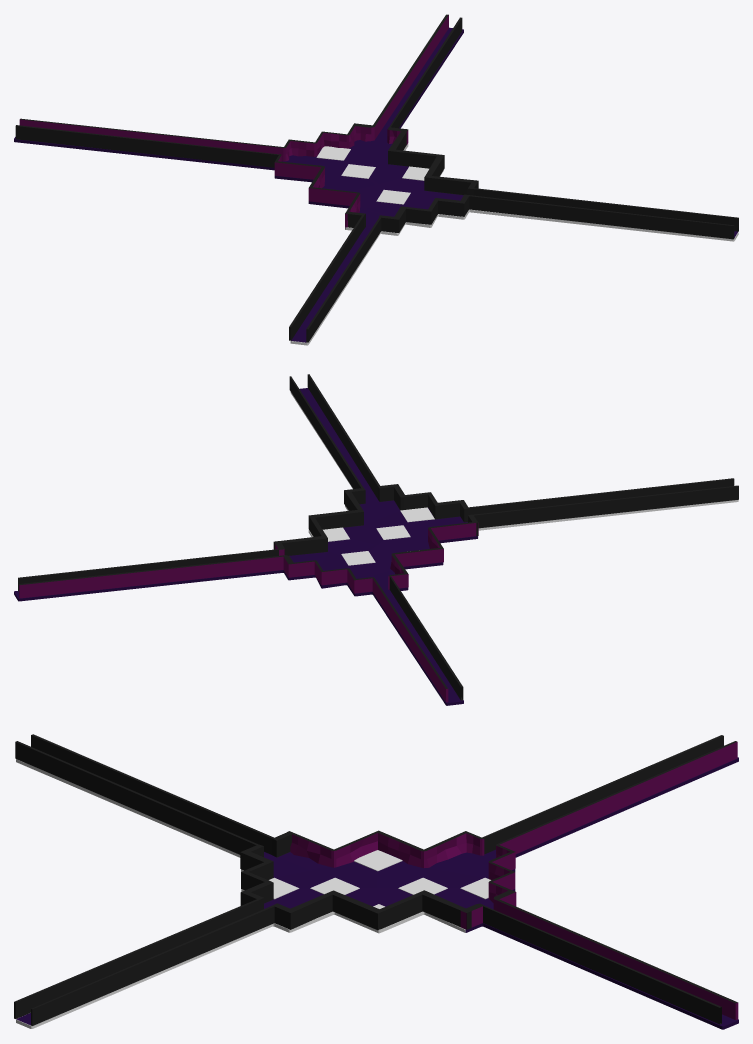
File: sala12DEF.fbx
3 views of the same model, one above another, from view 1: azimuth 30°, elevation 25°; view 2: azimuth 150°, elevation 25°; view 3: azimuth 270°, elevation 25° (orthographic). The views are drawn at different scales.
Parts seen in each view (by area): view 1: paredes_der_abajo12, suelo12, paredes_izq_arriba12, conjunto_trampas; view 2: paredes_der_abajo12, suelo12, paredes_izq_arriba12, conjunto_trampas; view 3: paredes_der_abajo12, paredes_izq_arriba12, suelo12, conjunto_trampas.
Part boxes in pixels (x1,y1,x2,y2): paredes_der_abajo12: (15,17,738,342); suelo12: (14,27,738,345); paredes_izq_arriba12: (19,14,448,227); conjunto_trampas: (316,146,428,204); paredes_der_abajo12: (18,374,738,700); suelo12: (14,388,738,705); paredes_izq_arriba12: (19,522,478,702); conjunto_trampas: (323,507,434,565); paredes_der_abajo12: (14,734,723,1025); paredes_izq_arriba12: (288,741,738,1019); suelo12: (16,757,738,1029); conjunto_trampas: (269,850,490,908).
Size of the model in its own units: 15241 by 531 by 16961.
